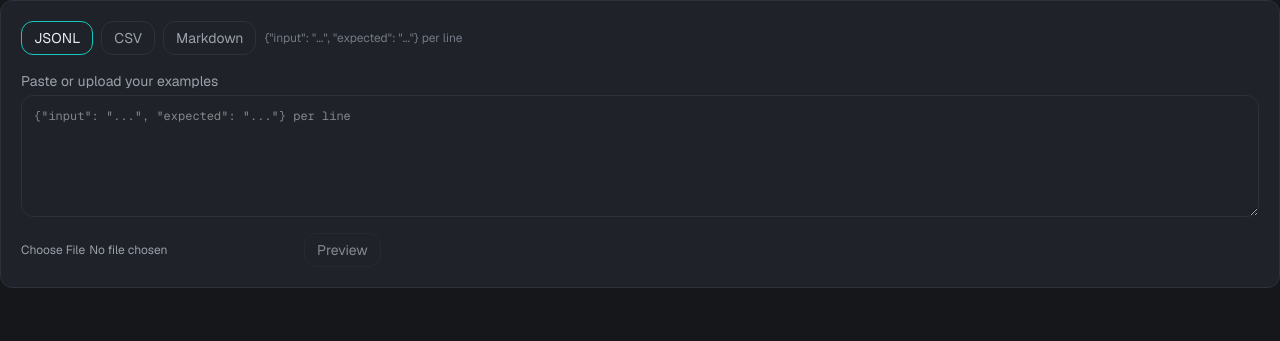
Test case: shows the server error when preview fails
Type "junk" into the text box labelled "Paste or upload your examples". click: (640, 156)
box: x1=21 y1=95 x2=1259 y2=217
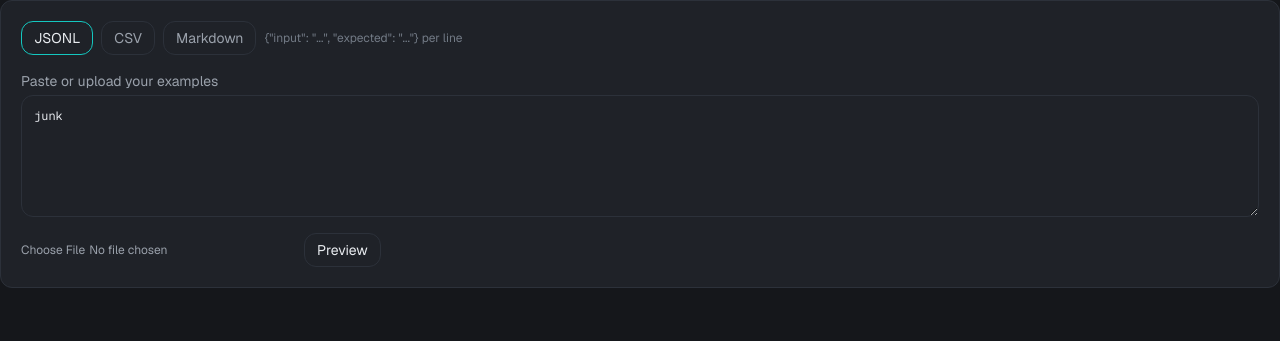
Click the button "Preview". click: click(342, 250)
box: x1=304 y1=233 x2=381 y2=267
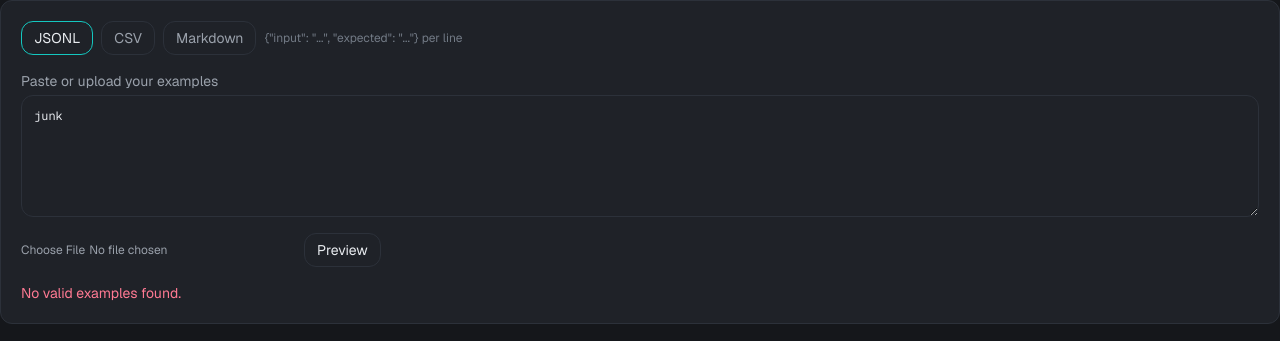
expect the text "No valid examples found." is shown: met, box x1=21 y1=284 x2=181 y2=302
